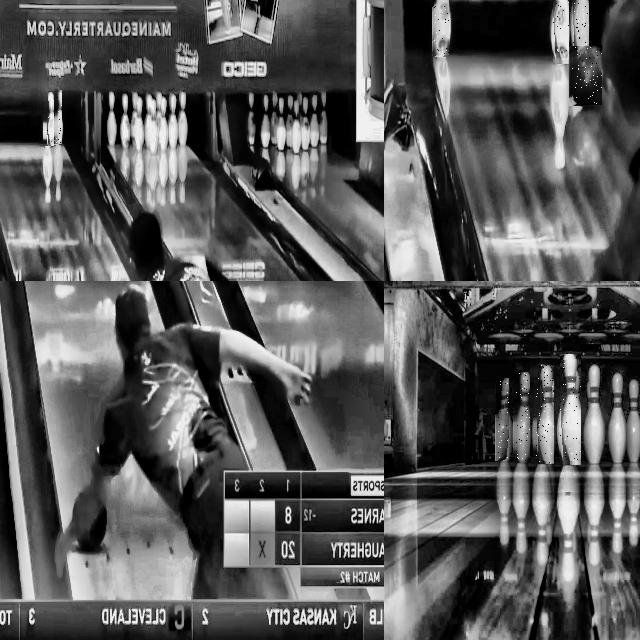bowling-ball: (572, 46, 602, 104)
bowling-pins: (560, 355, 581, 462), (583, 364, 605, 464), (536, 365, 553, 464), (608, 373, 626, 466), (516, 372, 529, 463), (627, 379, 640, 463), (553, 0, 569, 61), (546, 379, 556, 464), (573, 0, 589, 53), (498, 379, 508, 459), (434, 0, 448, 54), (46, 92, 53, 146), (56, 90, 61, 144)
